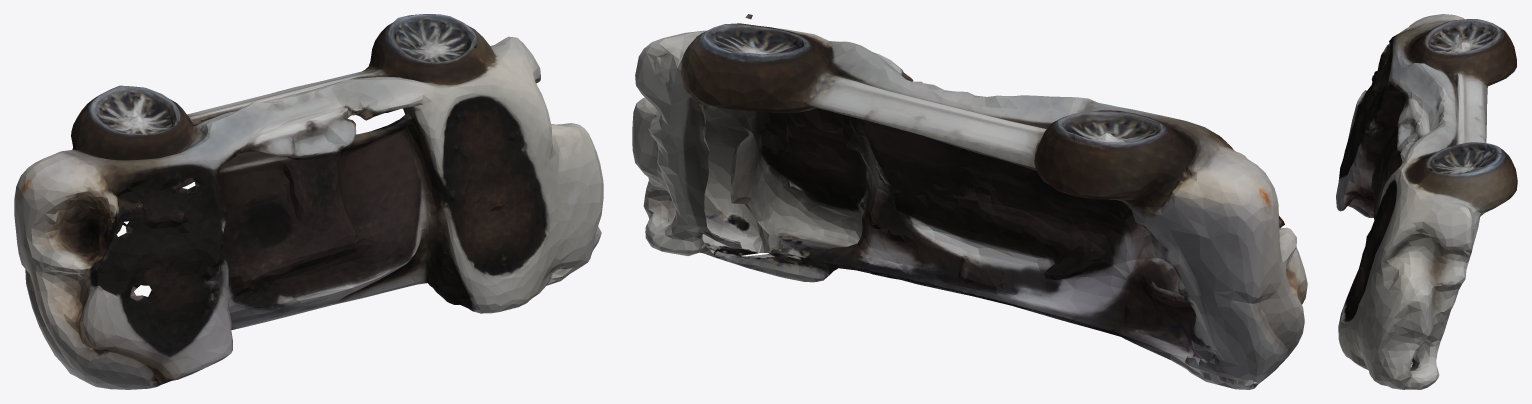
3 renders of one model, left to right at view 1: azimuth 30°, elevation 25°; view 2: azimuth 150°, elevation 25°; view 3: azimuth 270°, elevation 25°, orthographic. The views are drawn at different scales.
Parts seen in each view (by area): view 1: world; view 2: world; view 3: world.
Part boxes in pixels (x1,y1,x2,y2): world: (14,14,603,389); world: (632,14,1307,389); world: (1336,14,1517,389).
Bounding box in the file's own units: 0.9988 × 0.4035 × 0.3352.
1 material, 1 textured.
